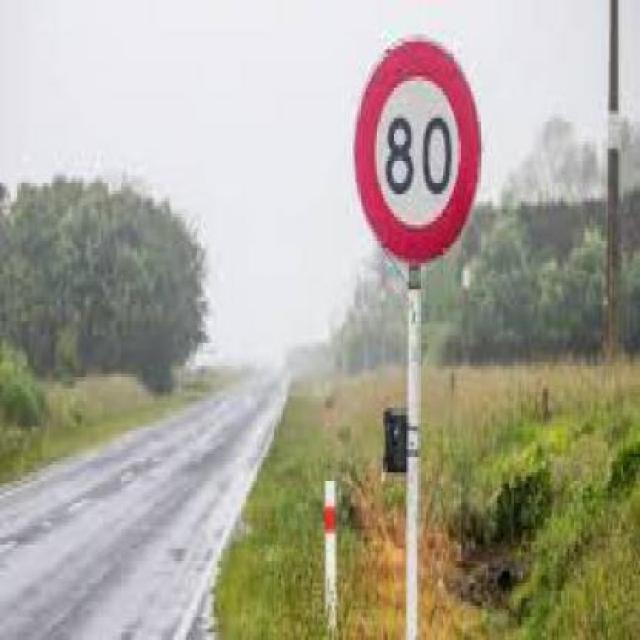forb_speed_over_80: (362, 65, 476, 245)
